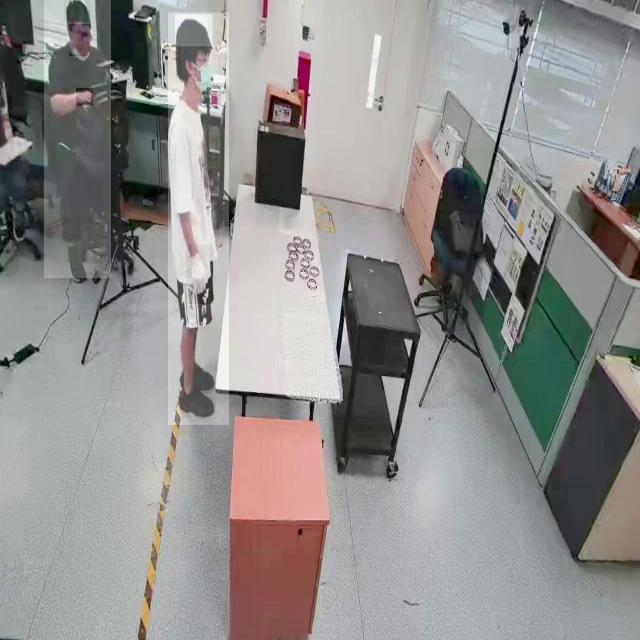face_mask: (181, 44, 219, 100)
face_nomask: (70, 24, 90, 57)
hand_glove: (186, 244, 214, 305)
hand_noglove: (76, 88, 94, 107)
head_nohelmet: (175, 14, 213, 47), (64, 0, 90, 22)
person: (168, 12, 230, 426), (44, 0, 112, 279)
shoes: (175, 383, 219, 427), (177, 360, 219, 398), (62, 238, 88, 289)
